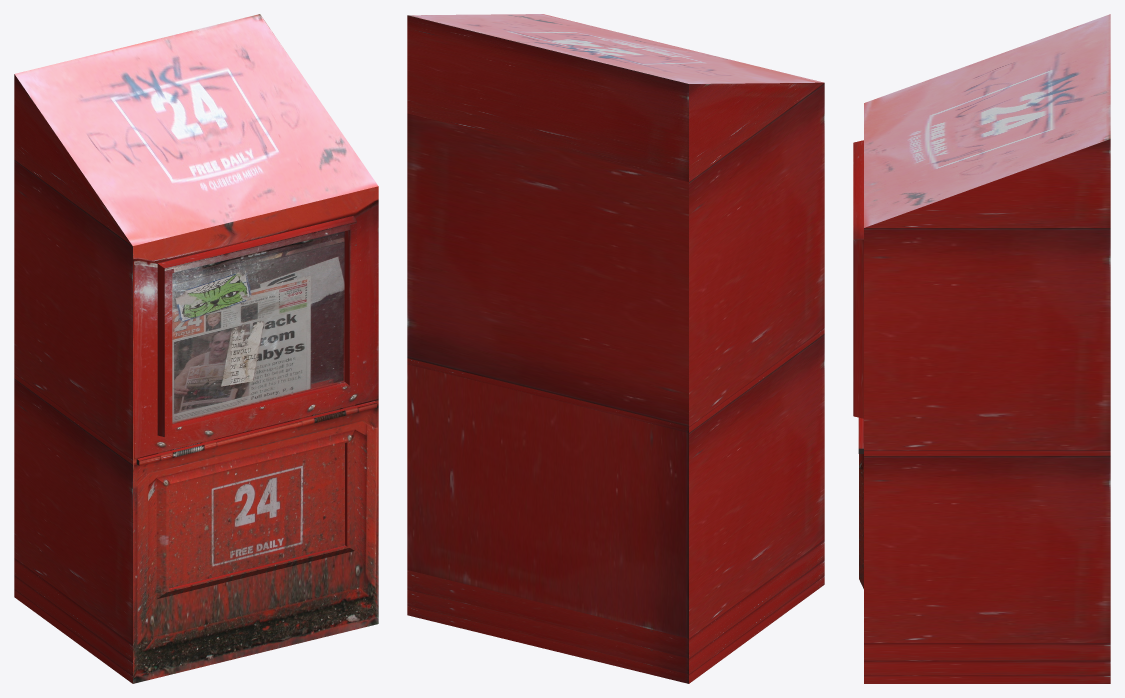
Rendered from newspaper_box02.fbx.
3 views of the same model, side by side, from view 1: azimuth 30°, elevation 25°; view 2: azimuth 150°, elevation 25°; view 3: azimuth 270°, elevation 25° (orthographic). The views are drawn at different scales.
Parts seen in each view (by area): view 1: newspaper_box02; view 2: newspaper_box02; view 3: newspaper_box02.
Part boxes in pixels (x1,y1,x2,y2): newspaper_box02: (14, 14, 378, 683); newspaper_box02: (407, 14, 824, 683); newspaper_box02: (853, 14, 1110, 683).
Bounding box in the file's own units: 4.79 × 9.75 × 4.18.
